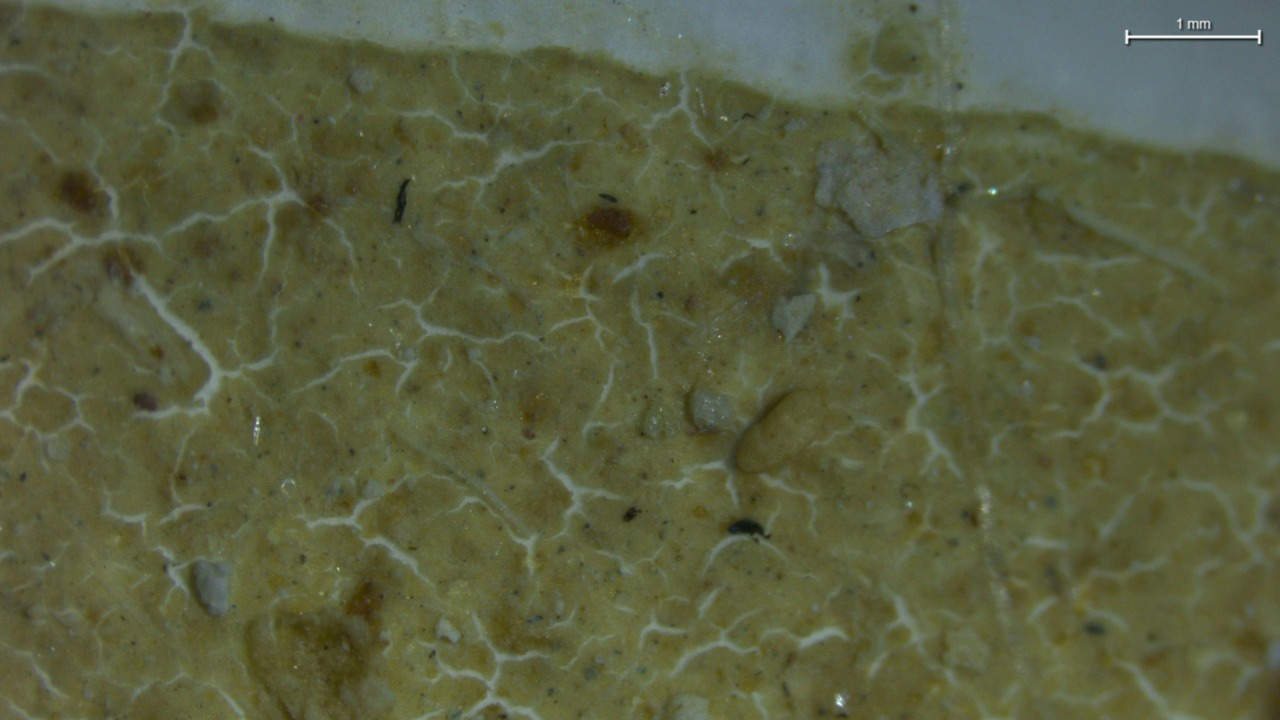microplastic_fragment: (822, 126, 945, 241), (736, 391, 831, 474), (184, 560, 236, 620), (772, 292, 820, 340), (691, 391, 728, 430)
